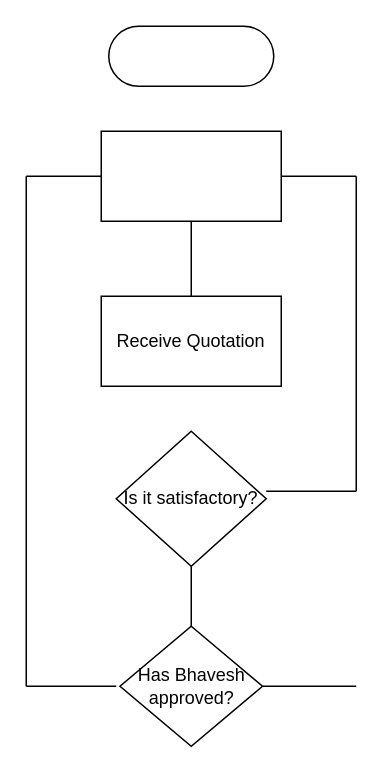
Some shapes in this 384 by 773 pixel diagram are drawn without their labels. The centre of each missing label's shape, as x and y in pixels:
"Float RFQ" goes at (x=190, y=175).
"START" goes at (x=190, y=55).
